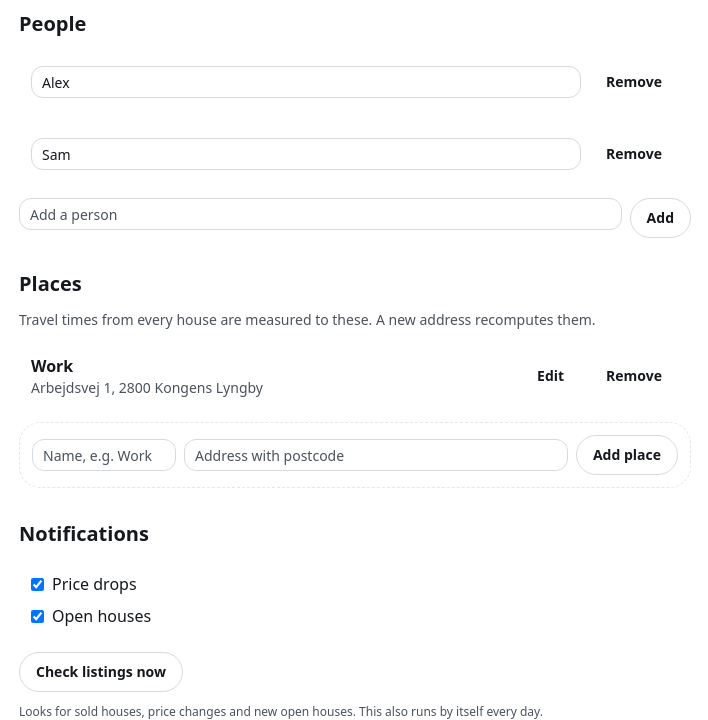
Test case: notification switches save, and the sweep runs on demand with its summary
This screenshot has width=708, height=720.
(page scrolled)
Click the checkbox labelled "Open houses".
click(38, 616)  # box [31, 610, 44, 622]
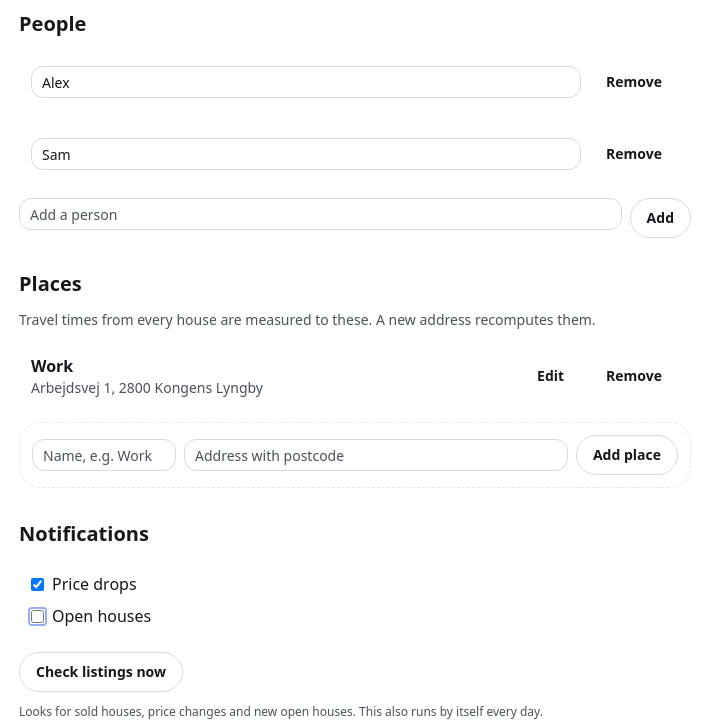
Click the button "Check listings now".
click(101, 672)  # box [19, 652, 183, 692]
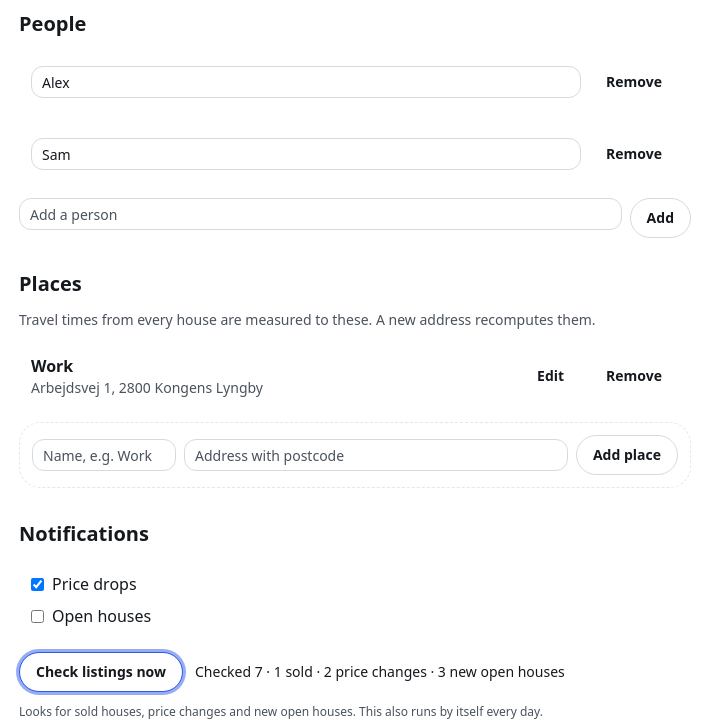
Now the text "Checked 7 · 1 sold · 2 price changes · 3 new open houses" is shown, box [195, 662, 565, 682]
